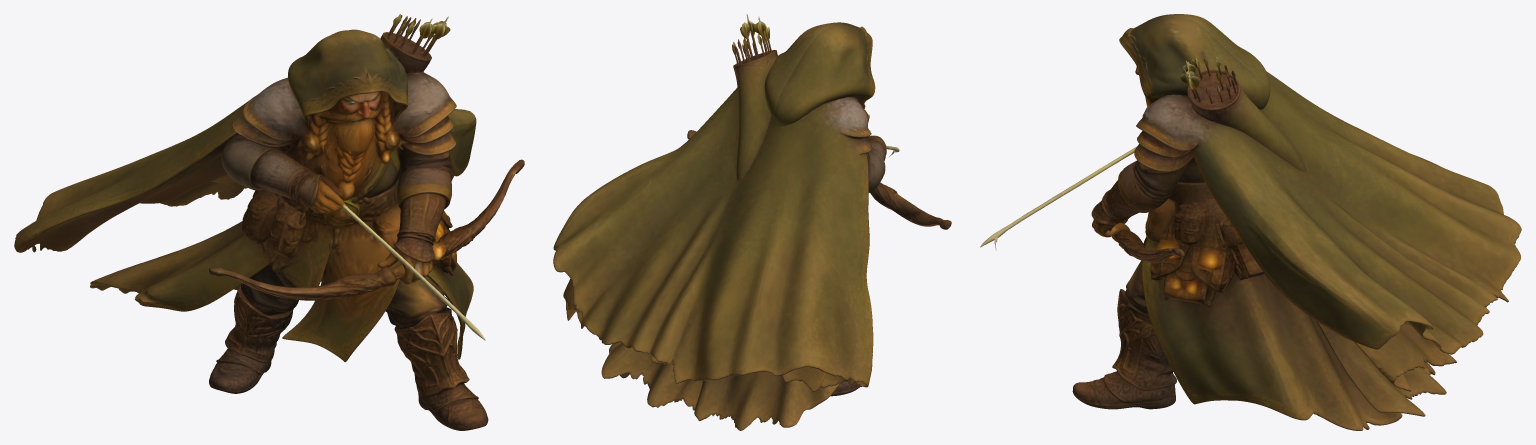
File: dwarf_ranger_full_male_01.glb
3 views of the same model, side by side, from view 1: azimuth 30°, elevation 25°; view 2: azimuth 150°, elevation 25°; view 3: azimuth 270°, elevation 25° (orthographic). The views are drawn at different scales.
Parts seen in each view (by area): view 1: material; view 2: material; view 3: material.
Part boxes in pixels (x1=…): material: x1=14, y1=14, x2=524, y2=430; material: x1=553, y1=14, x2=951, y2=430; material: x1=980, y1=14, x2=1521, y2=430.
Size of the model in its own units: 0.8429 by 0.7429 by 1.03.
Materials: 1 (1 with a texture image).
